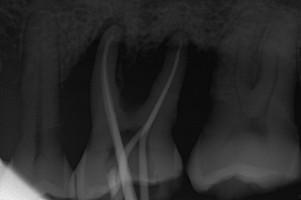Dental Caries: (66, 14, 217, 109)
